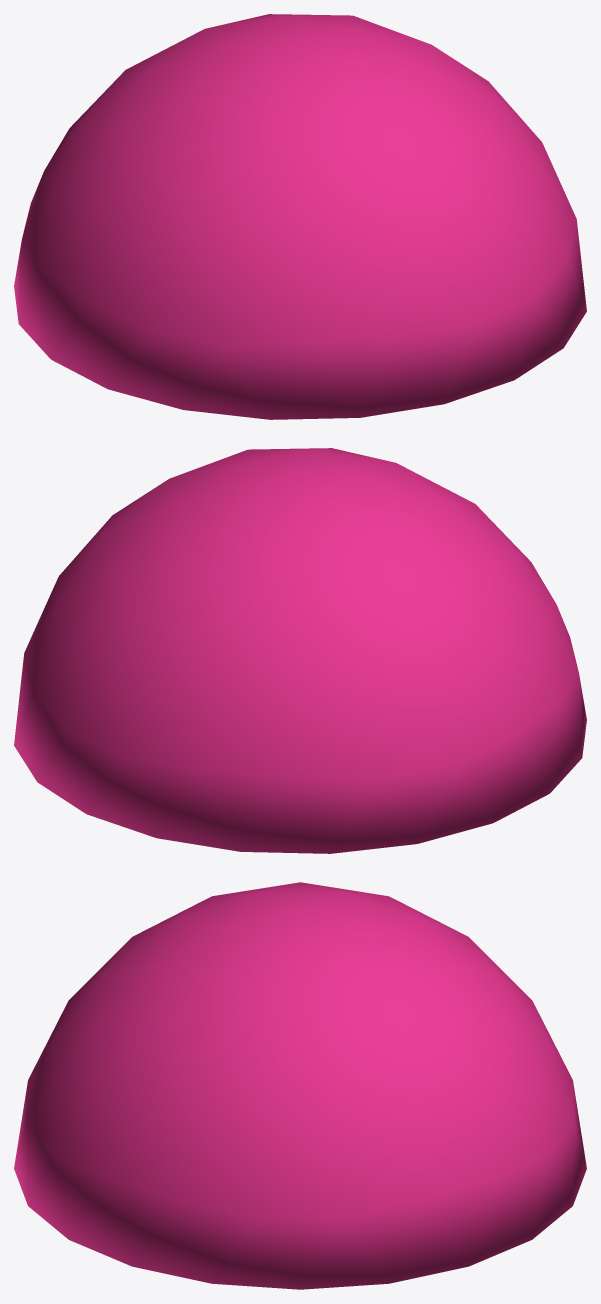
Rendered from bb8_smoothBall.fbx.
3 renders of one model, top to bottom at view 1: azimuth 30°, elevation 25°; view 2: azimuth 150°, elevation 25°; view 3: azimuth 270°, elevation 25°, orthographic.
Parts seen in each view (by area): view 1: top; view 2: top; view 3: top.
Part boxes in pixels (x1,y1,x2,y2): top: (14,14,586,419); top: (14,448,586,853); top: (14,882,586,1289).
Size of the model in its own units: 200 by 100 by 200.
